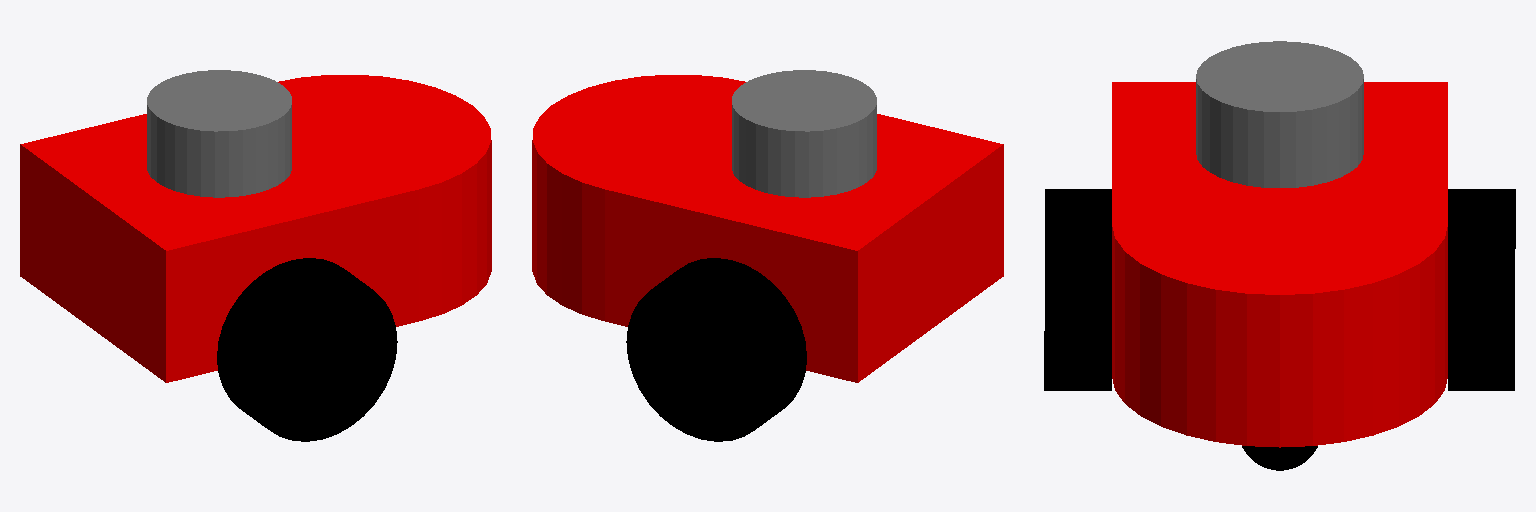
robot.urdf — robot:
<?xml version="1.0" ?>
<robot name="robot">

    <webots>

        <device reference="lidar" type="Lidar">
            <ros>
                <enabled>True</enabled>
                <updateRate>10</updateRate>
                <topicName>/scan</topicName>
                <alwaysOn>true</alwaysOn>
                <frameName>lidar</frameName>
            </ros>
        </device>

        <plugin type="webots_ros2_driver::Ros2IMU">
            <enabled>True</enabled>
            <topicName>/imu/data</topicName>
            <updateRate>10</updateRate>
            <alwaysOn>True</alwaysOn>
            <frameName>imu</frameName>
            <inertialUnitName>imu</inertialUnitName>
            <gyroName>gyro</gyroName>
            <accelerometerName>accelerometer</accelerometerName>
        </plugin>

        <plugin type="diff_drive_sim.webots_robot_driver.RobotDriver"/>
        
    </webots>

    <!-- Colors -->
    <material name="red">
        <color rgba="1.0 0.0 0.0 1.0"/>
    </material>

    <material name="black">
        <color rgba="0.0 0.0 0.0 1.0"/>
    </material>

    <material name="gray">
        <color rgba="0.5 0.5 0.5 1.0"/>
    </material>

    <!-- Robot body -->
    <link name="base_link">
        <visual>
            <geometry>
                <box size="0.1 0.1 0.05"/>
            </geometry>
            <material name="red"/>
        </visual>
        <collision>
            <geometry>
                <box size="0.1 0.1 0.05"/>
            </geometry>
        </collision>
    </link>

    <joint name="base_link_to_front_frame" type="fixed">
        <parent link="base_link"/>
        <child link="front_frame"/>
        <origin xyz="0.05 0 0" rpy="0 0 0"/>
    </joint>

    <link name="front_frame">
        <visual>
            <origin xyz="0 0 0" rpy="0 0 0"/>
            <geometry>
                <cylinder radius="0.05" length="0.05"/>
            </geometry>
            <material name="red"/>
        </visual>
        <collision>
            <origin xyz="0 0 0" rpy="0 0 0"/>
            <geometry>
                <cylinder radius="0.05" length="0.05"/>
            </geometry>
        </collision>
    </link>

    <joint name="base_link_to_lidar" type="fixed">
        <parent link="base_link"/>
        <child link="lidar"/>
        <origin xyz="0 0 0.0375" rpy="0 0 0"/>
    </joint>

    <link name="lidar">
        <visual>
            <origin xyz="0 0 0" rpy="0 0 0"/>
            <geometry>
                <cylinder radius="0.025" length="0.025"/>
            </geometry>
            <material name="gray"/>
        </visual>
        <collision>
            <origin xyz="0 0 0" rpy="0 0 0"/>
            <geometry>
                <cylinder radius="0.025" length="0.025"/>
            </geometry>
        </collision>
    </link>

    <joint name="base_link_to_imu" type="fixed">
        <parent link="base_link"/>
        <child link="imu"/>
        <origin xyz="0 0 0" rpy="0 0 0"/>
    </joint>

    <link name="imu">
        <visual>
            <origin xyz="0 0 0" rpy="0 0 0"/>
            <geometry>
                <box size="0.01 0.01 0.01"/>
            </geometry>
            <material name="gray"/>
        </visual>
        <collision>
            <origin xyz="0 0 0" rpy="0 0 0"/>
            <geometry>
                <box size="0.01 0.01 0.01"/>
            </geometry>
        </collision>
    </link>

    <!-- Wheel 1 -->
    <joint name="motor1" type="continuous">
        <parent link="base_link"/>
        <child link="wheel1"/>
        <axis xyz="0 0 -1"/>
        <limit effort="10" velocity="10"/>
        <origin xyz="0 0.06 -0.02" rpy="1.57 0 0"/>
    </joint>

    <link name="wheel1">
        <visual>
            <origin xyz="0 0 0" rpy="0 0 0"/>
            <geometry>
                <cylinder radius="0.03" length="0.02"/>
            </geometry>
            <material name="black"/>
        </visual>
        <collision>
            <origin xyz="0 0 0" rpy="0 0 0"/>
            <geometry>
                <cylinder radius="0.03" length="0.02"/>
            </geometry>
        </collision>
    </link>

    <!-- Wheel 2 -->
    <joint name="motor2" type="continuous">
        <parent link="base_link"/>
        <child link="wheel2"/>
        <axis xyz="0 0 -1"/>
        <limit effort="10" velocity="10"/>
        <origin xyz="0 -0.06 -0.02" rpy="1.57 0 0"/>
    </joint>

    <link name="wheel2">
        <visual>
            <origin xyz="0 0 0" rpy="0 0 0"/>
            <geometry>
                <cylinder radius="0.03" length="0.02"/>
            </geometry>
            <material name="black"/>
        </visual>
        <collision>
            <origin xyz="0 0 0" rpy="0 0 0"/>
            <geometry>
                <cylinder radius="0.03" length="0.02"/>
            </geometry>
        </collision>
    </link>

    <!-- Caster Wheel -->
    <joint name="base_link_to_caster" type="fixed">
        <parent link="base_link"/>
        <child link="caster"/>
        <origin xyz="0.06 0 -0.0375" rpy="0 0 0"/>
    </joint>

    <link name="caster">
        <visual>
            <origin xyz="0 0 0" rpy="0 0 0"/>
            <geometry>
                <sphere radius="0.0125"/>
            </geometry>
            <material name="black"/>
        </visual>
        <collision>
            <origin xyz="0 0 0" rpy="0 0 0"/>
            <geometry>
                <sphere radius="0.0125"/>
            </geometry>
        </collision>
    </link>

</robot>

--- Render facts (derived) ---
3 views of the same robot in one strip: view 1: azimuth 30°, elevation 25°; view 2: azimuth 150°, elevation 25°; view 3: azimuth 270°, elevation 25° (orthographic).
Robot: robot — 7 links, 6 joints (2 continuous, 4 fixed); root link base_link; default pose: every joint at zero.
Links seen in each view (by area): view 1: base_link, front_frame, wheel2, lidar; view 2: base_link, front_frame, wheel1, lidar; view 3: front_frame, base_link, lidar, wheel1, wheel2, caster.
Link boxes in pixels (x1,y1,x2,y2): base_link: [20, 97, 418, 382]; front_frame: [272, 75, 491, 320]; wheel2: [217, 258, 397, 441]; lidar: [147, 70, 291, 197]; base_link: [605, 100, 1003, 382]; front_frame: [532, 75, 745, 320]; wheel1: [626, 258, 806, 441]; lidar: [732, 70, 876, 197]; front_frame: [1112, 162, 1447, 447]; base_link: [1112, 82, 1447, 223]; lidar: [1196, 41, 1363, 187]; wheel1: [1448, 189, 1515, 390]; wheel2: [1044, 189, 1111, 390]; caster: [1242, 446, 1317, 470].
Size in the robot's own frame: 0.15 by 0.14 by 0.1 metres.
Geometry: primitives only (box / cylinder / sphere), no mesh files.